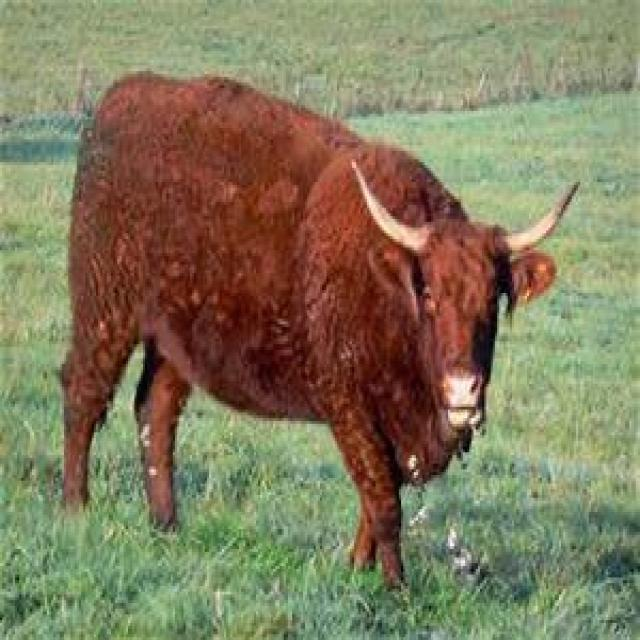cow: (58, 71, 578, 592)
